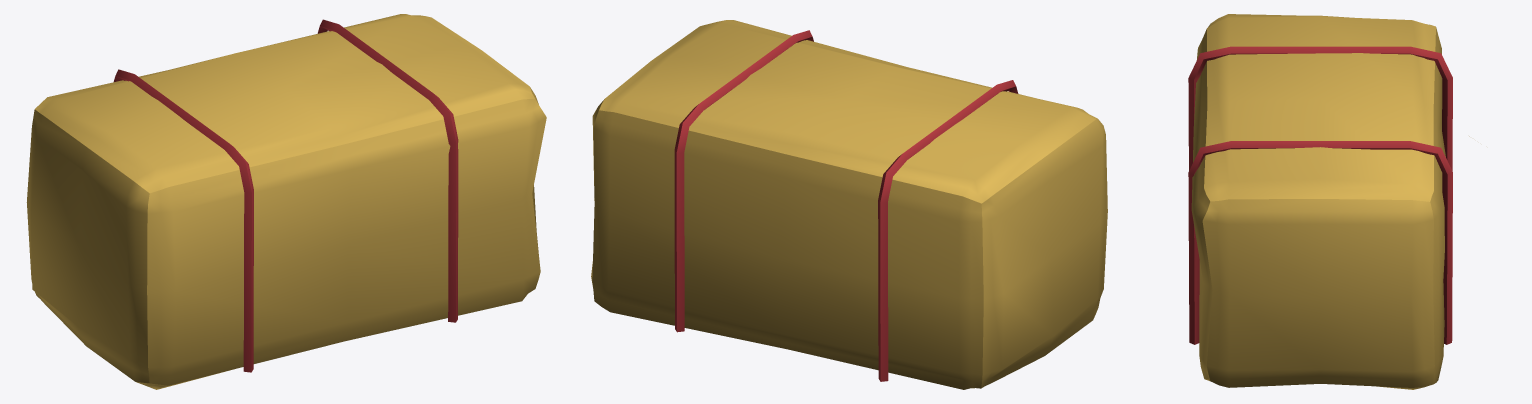
The model's file is haybale.glb.
3 renders of one model, left to right at view 1: azimuth 30°, elevation 25°; view 2: azimuth 150°, elevation 25°; view 3: azimuth 270°, elevation 25°, orthographic. The views are drawn at different scales.
Visible parts, largest first — view 1: Haybale Straw, Haybale Rope; view 2: Haybale Straw, Haybale Rope; view 3: Haybale Straw, Haybale Rope.
Boxes of the visible parts, x1,y1,x2,y2 form: Haybale Straw: (26,14,546,389); Haybale Rope: (113,19,458,372); Haybale Straw: (591,20,1107,389); Haybale Rope: (674,30,1018,381); Haybale Straw: (1191,14,1469,389); Haybale Rope: (1188,46,1452,344).
Size of the model in its own units: 1.01 by 0.5387 by 0.8538.
